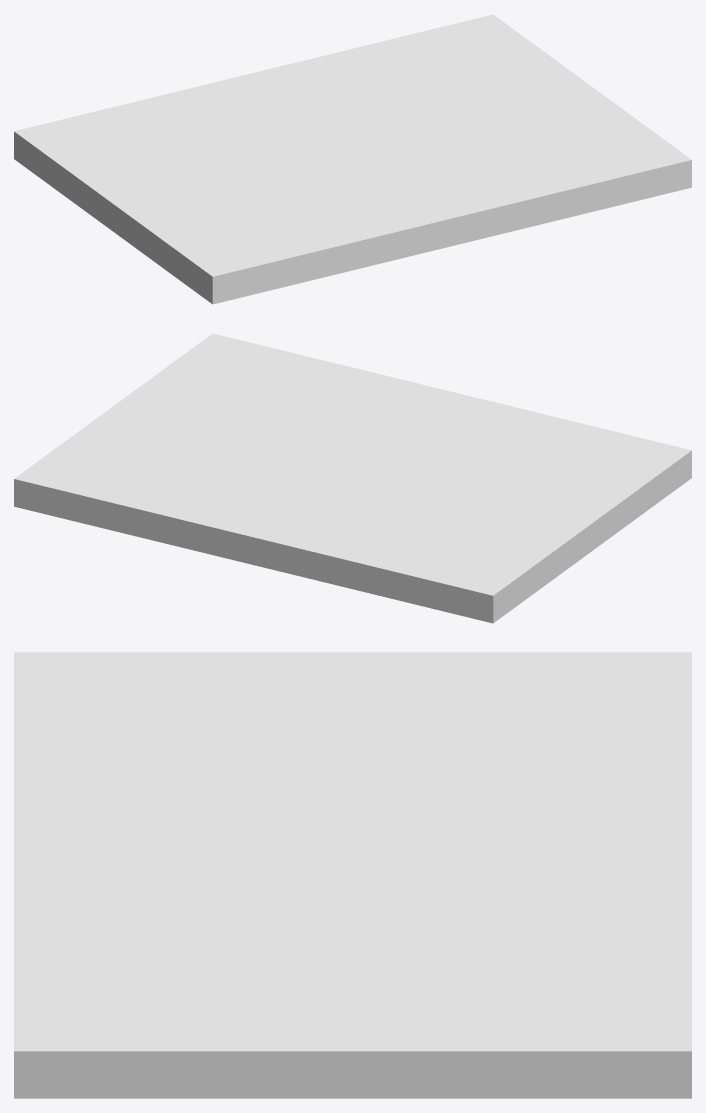
Rendered from AEC_48041.glb.
3 renders of one model, top to bottom at view 1: azimuth 30°, elevation 25°; view 2: azimuth 150°, elevation 25°; view 3: azimuth 270°, elevation 25°, orthographic. The views are drawn at different scales.
Parts seen in each view (by area): view 1: 0; view 2: 0; view 3: 0.
Boxes of the visible parts, bbox=[...] form: 0: bbox=[14, 14, 691, 304]; 0: bbox=[14, 333, 691, 623]; 0: bbox=[14, 652, 691, 1098].
Size of the model in its own units: 0.65 by 0.0359 by 0.467.
1 material, 1 textured.
